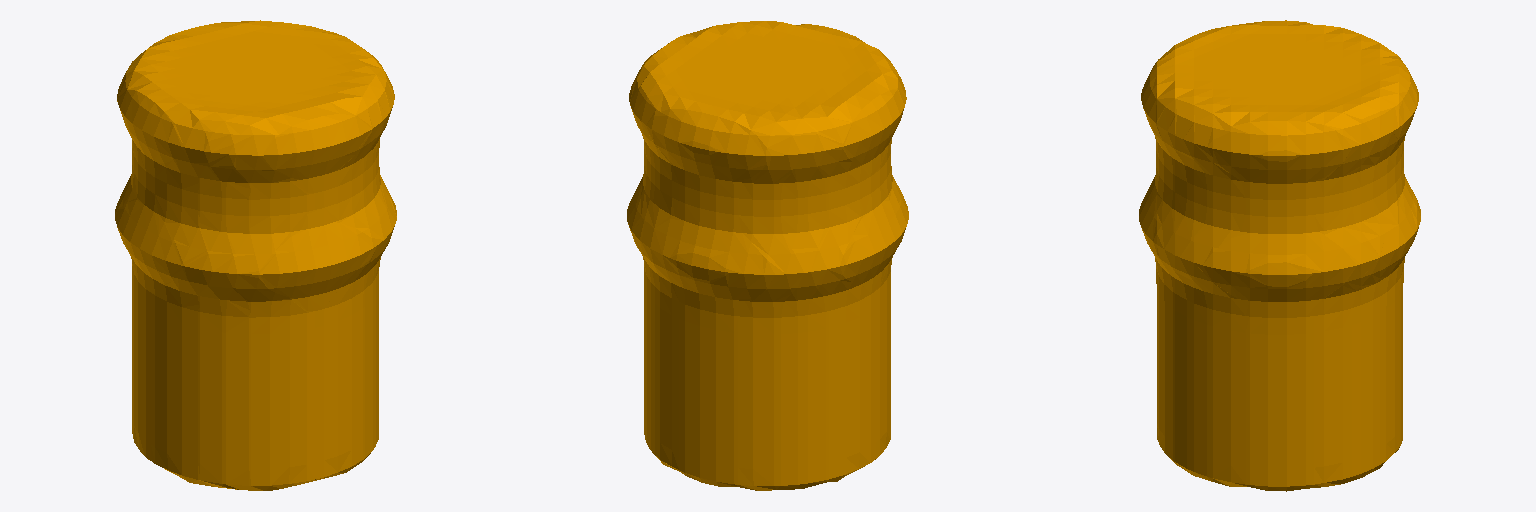
URDF robot description (cylinder_../../meshes/cylinders/cylinder_12.stl):
<?xml version="1.0" encoding="utf-8"?>  <robot name="cylinder_../../meshes/cylinders/cylinder_12.stl">   <link name="cylinder_../../meshes/cylinders/cylinder_12.stl">     <visual>       <geometry>         <mesh filename="../meshes/cylinders/cylinder_12.stl" scale="1 1 1"/>       </geometry>     </visual>     <collision>       <geometry>         <mesh filename="../meshes/cylinders/cylinder_12.stl" scale="1 1 1"/>       </geometry>     </collision>     <inertial>        <origin         xyz="0 0 0"         rpy="0 0 0" />       <mass value="0.4045373101803119"/>       <origin rpy="0 0 0" xyz="0 0 0"/>       <inertia ixx="0.0005295528450518893" ixy="-7.512891873463096e-09" ixz="5.492817591433972e-08" iyy="0.0005295531585976682" iyz="5.0142185266118796e-08" izz="0.00023655390283472579"/>     </inertial>   </link>  </robot>

--- Render facts (derived) ---
3 views of the same robot in one strip: view 1: azimuth 30°, elevation 25°; view 2: azimuth 150°, elevation 25°; view 3: azimuth 270°, elevation 25° (orthographic).
Model cylinder_../../meshes/cylinders/cylinder_12.stl with 1 links and 0 joints (none), rooted at cylinder_../../meshes/cylinders/cylinder_12.stl, posed all joints at 0.
Links seen in each view (by area): view 1: cylinder_../../meshes/cylinders/cylinder_12.stl; view 2: cylinder_../../meshes/cylinders/cylinder_12.stl; view 3: cylinder_../../meshes/cylinders/cylinder_12.stl.
Boxes of the visible links, left/top/right/bottom form: cylinder_../../meshes/cylinders/cylinder_12.stl: left=115, top=20, right=396, bottom=490; cylinder_../../meshes/cylinders/cylinder_12.stl: left=627, top=21, right=908, bottom=490; cylinder_../../meshes/cylinders/cylinder_12.stl: left=1139, top=20, right=1420, bottom=491.
Size in the robot's own frame: 0.076 by 0.076 by 0.1114 metres.
Meshes: 1 distinct files referenced, 1 mesh visuals loaded (1 binary STL).